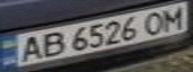2: (103, 17, 127, 46)
5: (84, 20, 109, 50)
6: (118, 13, 145, 42), (66, 24, 90, 52)
A: (12, 34, 48, 63)
B: (36, 29, 69, 58)
M: (157, 4, 190, 32)
O: (139, 8, 172, 35)
